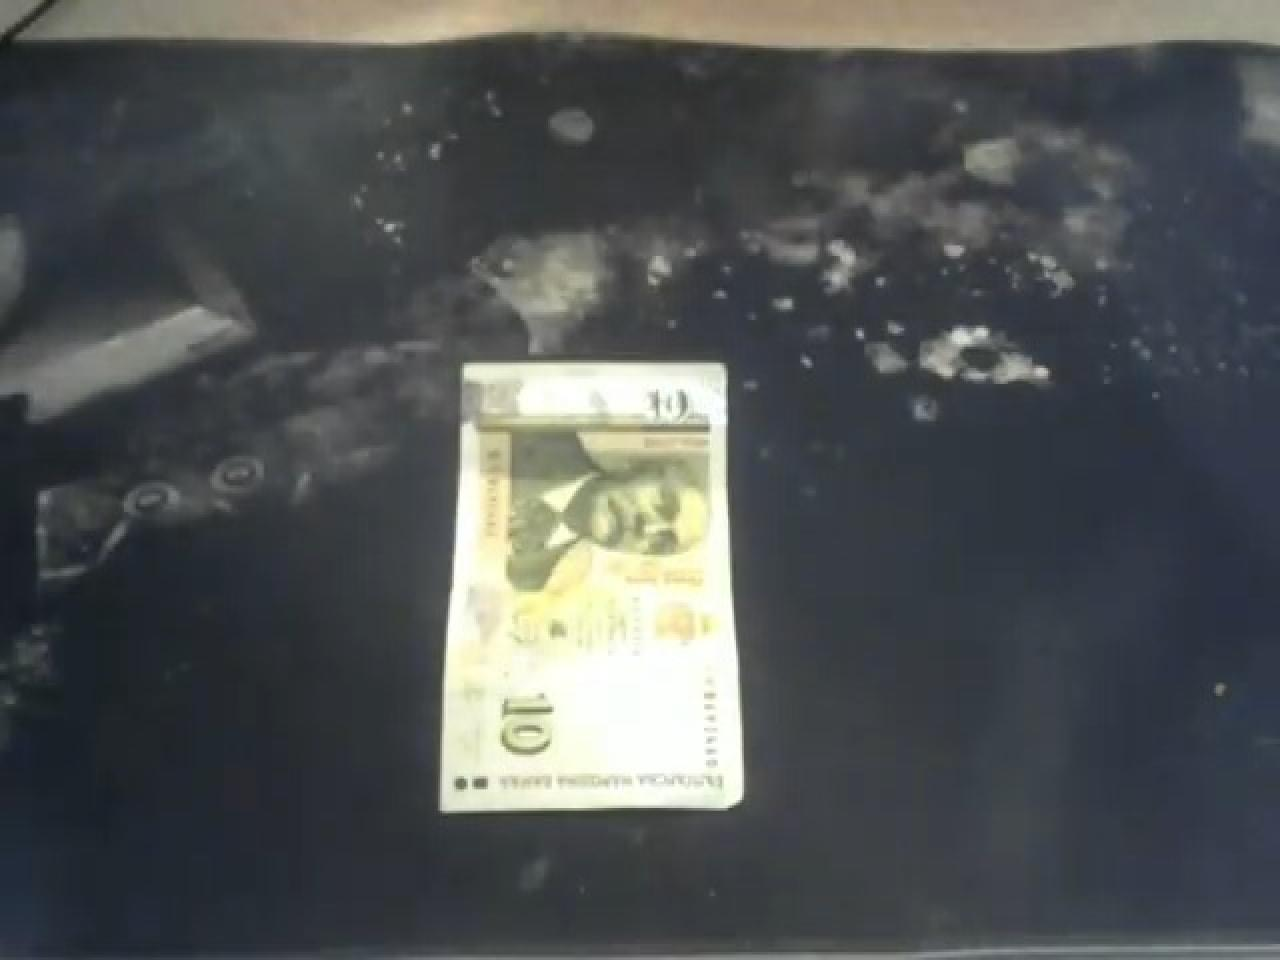10leva: (434, 360, 750, 819), (434, 360, 748, 819), (434, 360, 750, 816)
